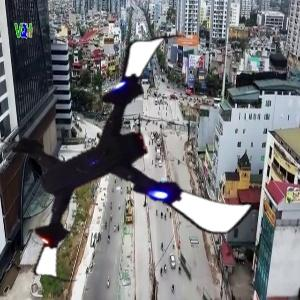drone: (1, 33, 241, 273)
